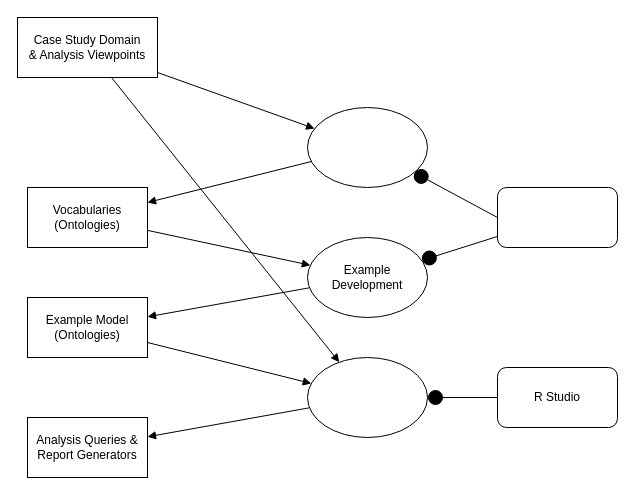
Some shapes in this 635 by 495 pixel diagram are drawn without their labels. Here are the shapes that lost their labels. From the top down, the centre of each, then its label:
At [367,147]: "Ontology Development".
At [557,217]: "OML Rosetta Worbench".
At [367,397]: "Query/Reduction Development".
